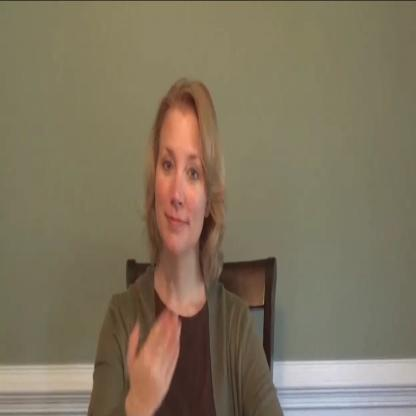ThankYou: (101, 78, 261, 416)
